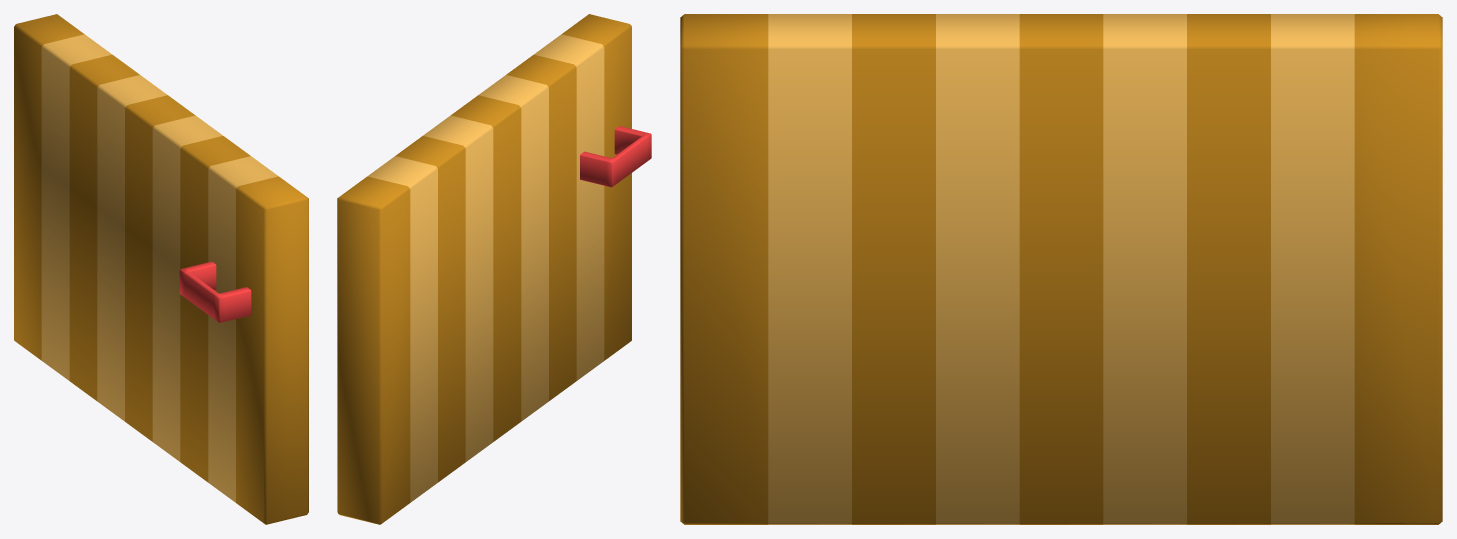
Rendered from Door.fbx.
The picture shows the model from 3 angles, left to right: view 1: azimuth 30°, elevation 25°; view 2: azimuth 150°, elevation 25°; view 3: azimuth 270°, elevation 25°; orthographic projection. The views are drawn at different scales.
Parts seen in each view (by area): view 1: Box001, Handle; view 2: Box001, Handle; view 3: Box001.
Boxes of the visible parts, bbox=[...] form: Box001: bbox=[14, 14, 308, 524]; Handle: bbox=[179, 261, 251, 322]; Box001: bbox=[337, 14, 631, 524]; Handle: bbox=[580, 126, 651, 187]; Box001: bbox=[680, 14, 1442, 524].
Bounding box in the file's own units: 33.46 × 131 × 189.
